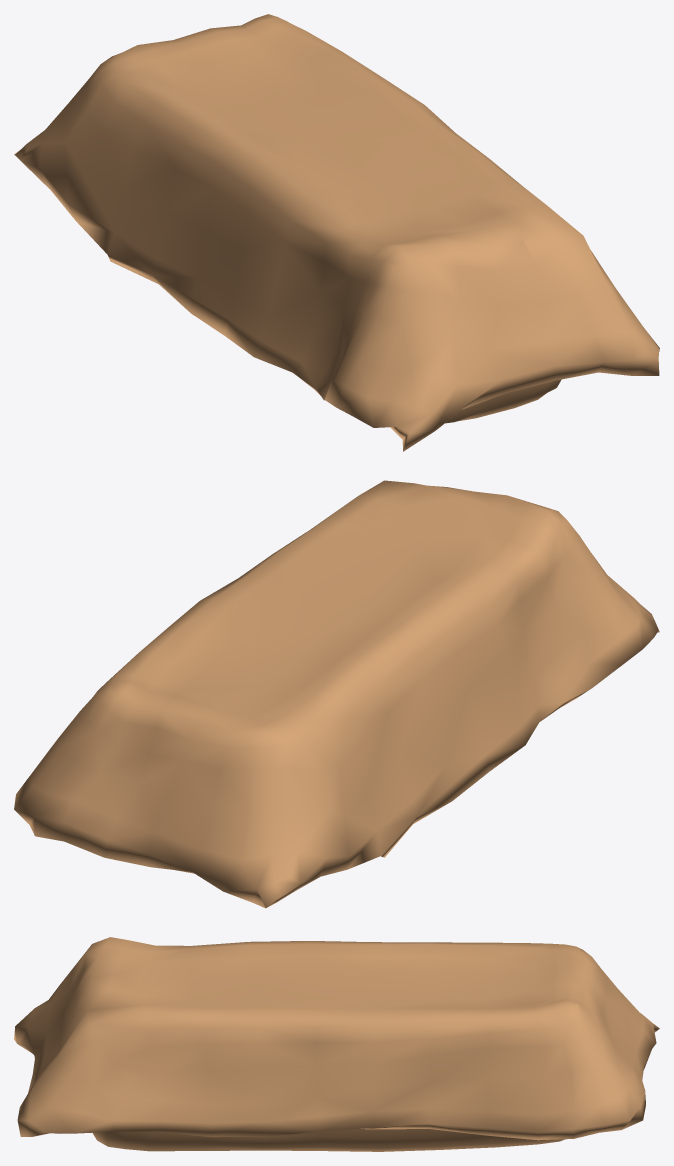
The model's file is Cargo_Filter.fbx.
The picture shows the model from 3 angles, top to bottom: view 1: azimuth 30°, elevation 25°; view 2: azimuth 150°, elevation 25°; view 3: azimuth 270°, elevation 25°; orthographic projection. The views are drawn at different scales.
Visible parts, largest first — view 1: Cargo_Filter; view 2: Cargo_Filter; view 3: Cargo_Filter.
Boxes of the visible parts, x1,y1,x2,y2 form: Cargo_Filter: (14,14,659,451); Cargo_Filter: (14,480,659,908); Cargo_Filter: (14,937,659,1151).
Size of the model in its own units: 153 by 91.78 by 335.
